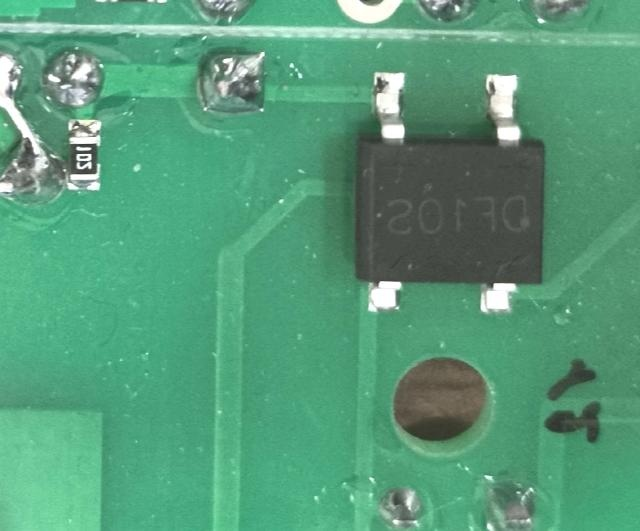chip-resistor: (66, 117, 102, 191)
ic: (351, 69, 545, 319)
